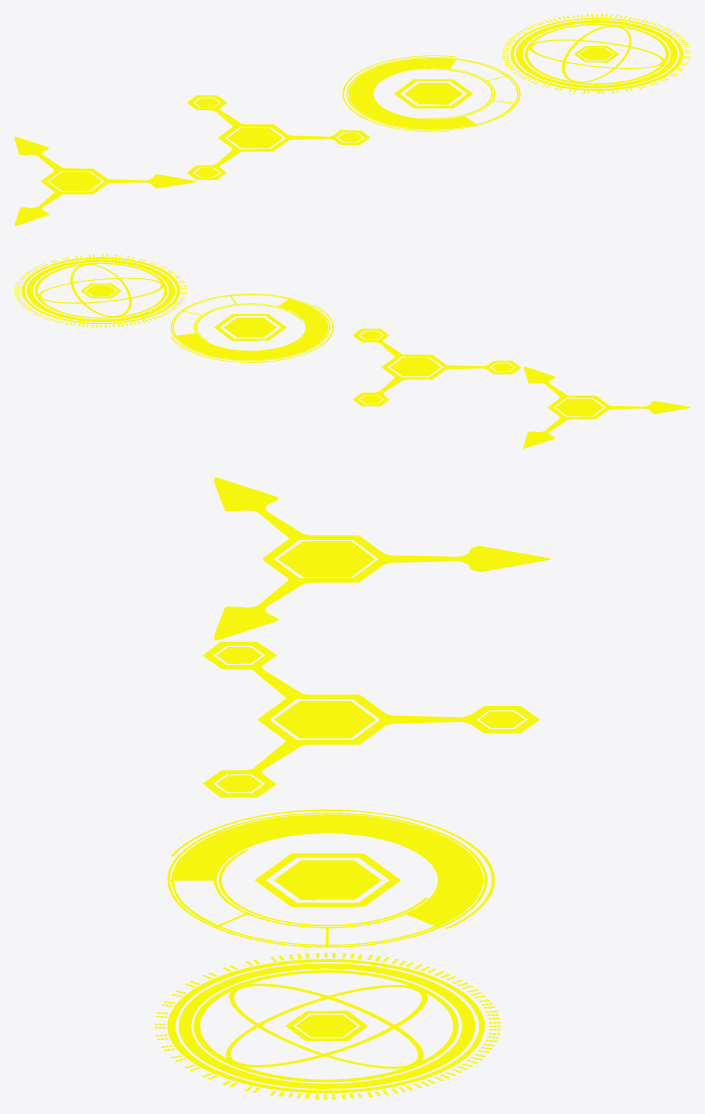
The picture shows the model from 3 angles, top to bottom: view 1: azimuth 30°, elevation 25°; view 2: azimuth 150°, elevation 25°; view 3: azimuth 270°, elevation 25°; orthographic projection. The views are drawn at different scales.
Visible parts, largest first — view 1: Solver Edit, Solver Rotate, Solver Scale, Solver Transform; view 2: Solver Edit, Solver Rotate, Solver Scale, Solver Transform; view 3: Solver Edit, Solver Rotate, Solver Scale, Solver Transform.
Part boxes in pixels (x1,y1,x2,y2): Solver Edit: (342,55,520,132); Solver Rotate: (502,14,690,93); Solver Scale: (187,95,370,179); Solver Transform: (14,136,196,225); Solver Edit: (170,293,333,362); Solver Rotate: (14,254,187,327); Solver Scale: (353,328,520,406); Solver Transform: (523,366,690,448); Solver Edit: (167,809,494,947); Solver Rotate: (154,953,500,1099); Solver Scale: (202,641,539,797); Solver Transform: (214,477,550,640).
Size of the model in its own units: 426 by 0.015 by 115.
